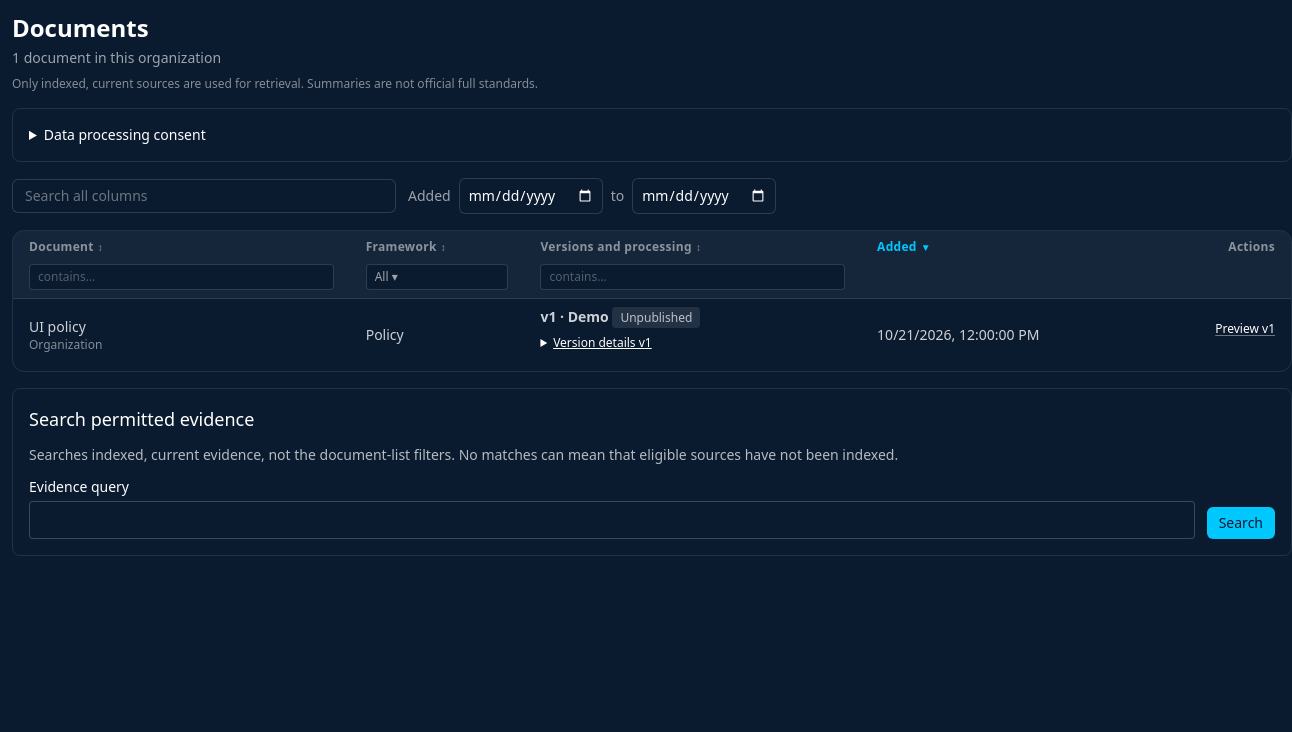
it: Documents UI permissions and states › keeps preview errors and retry inside the row and treats source text as plain text
This screenshot has width=1292, height=732.
Click the button "Preview v1": (1245, 329) [1215, 321, 1275, 337]
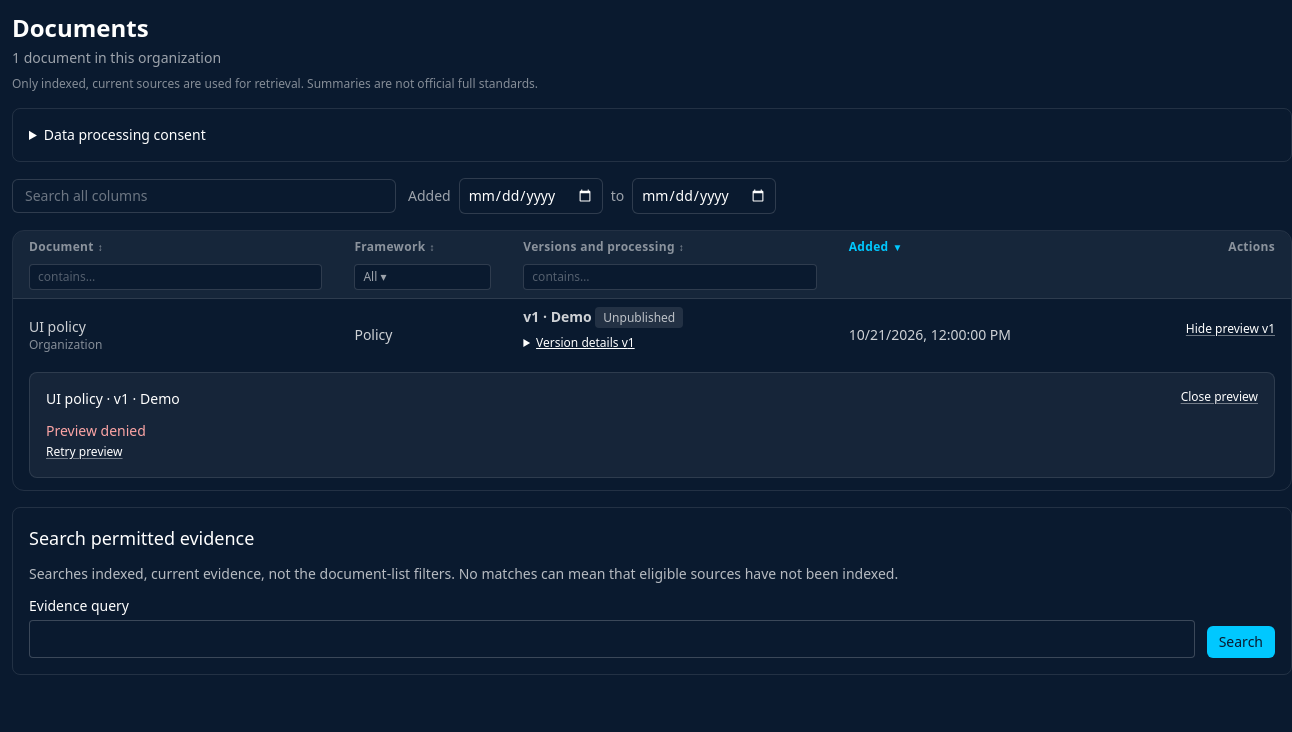
Now the message shows "Preview denied", box [46, 421, 146, 440]
Click the button "Retry preview": (84, 452) [46, 444, 122, 460]
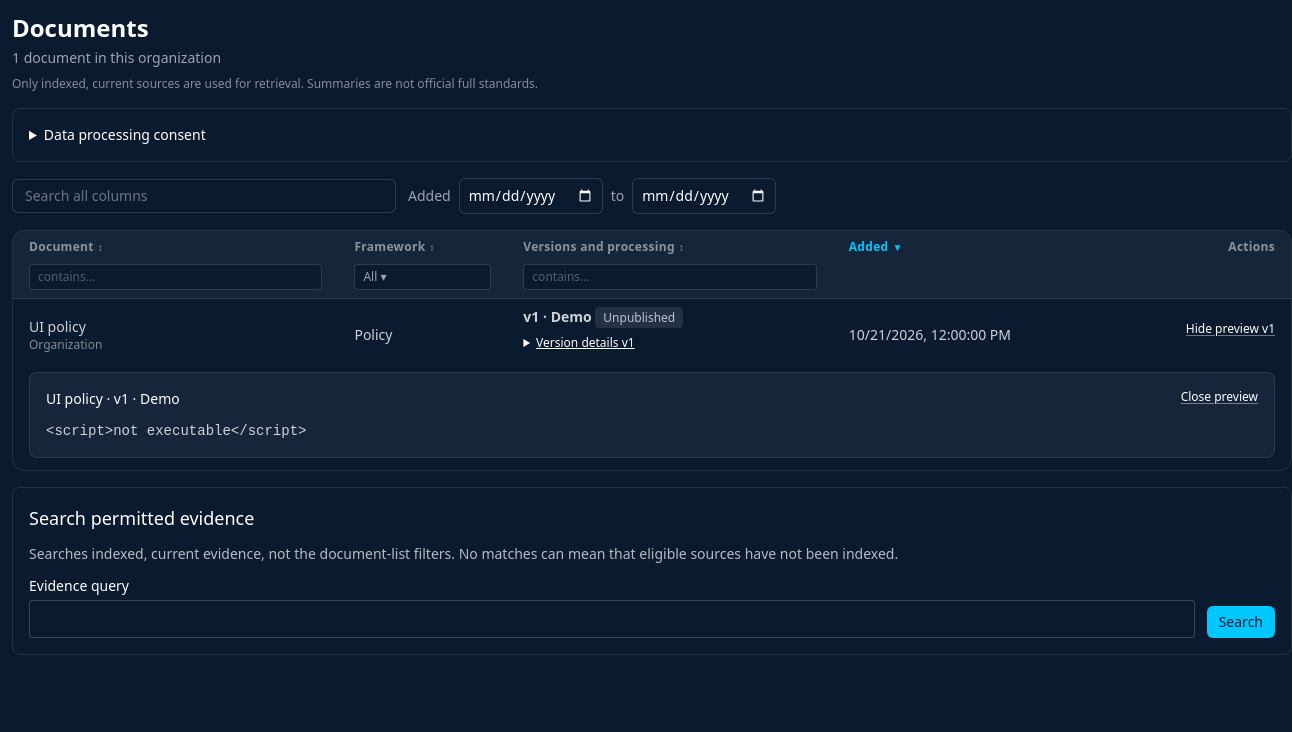
Now the text "<script>not executable</script>" is shown, box [46, 423, 306, 439]
